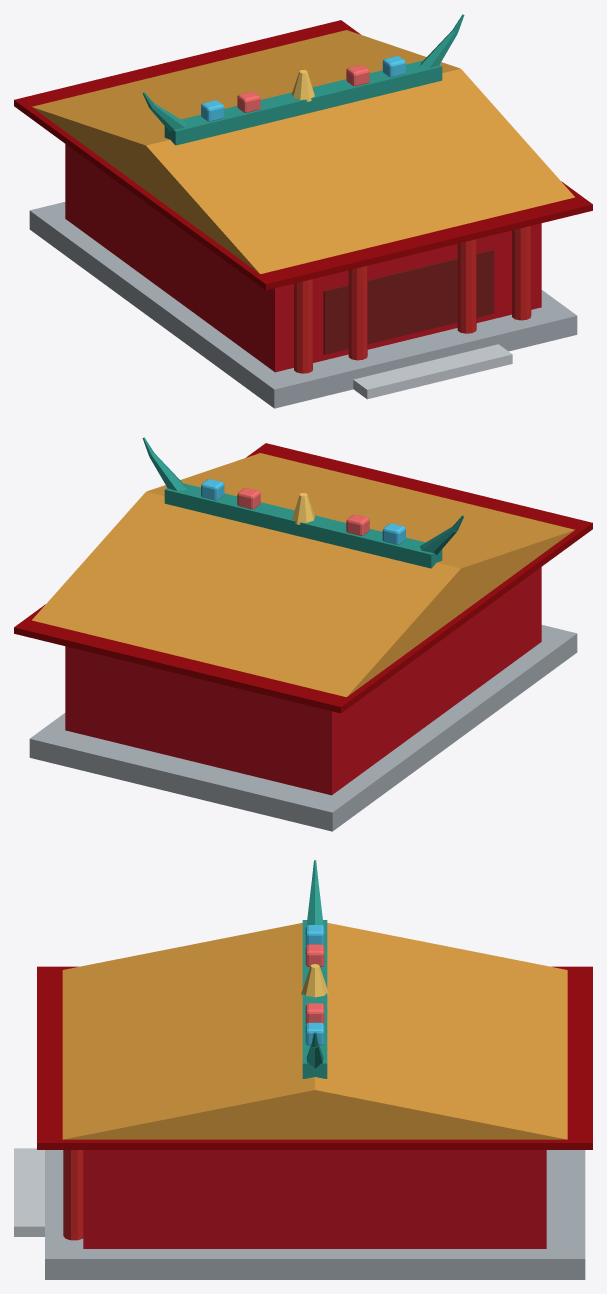
The model's file is sn_temple.glb.
The picture shows the model from 3 angles, top to bottom: view 1: azimuth 30°, elevation 25°; view 2: azimuth 150°, elevation 25°; view 3: azimuth 270°, elevation 25°; orthographic projection. The views are drawn at different scales.
Parts seen in each view (by area): view 1: sn_temple; view 2: sn_temple; view 3: sn_temple.
Boxes of the visible parts, bbox=[...] form: sn_temple: bbox=[14, 14, 592, 408]; sn_temple: bbox=[14, 437, 592, 831]; sn_temple: bbox=[14, 860, 592, 1279].
Bounding box in the file's own units: 2700 × 1804 × 3750.
